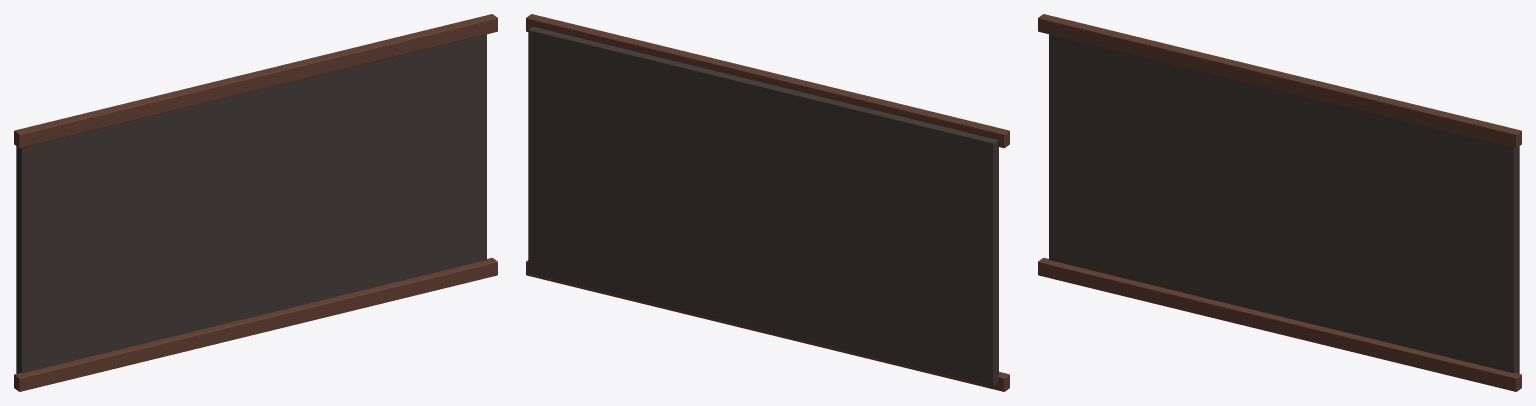
Rendered from board.fbx.
The picture shows the model from 3 angles, left to right: view 1: azimuth 30°, elevation 25°; view 2: azimuth 150°, elevation 25°; view 3: azimuth 330°, elevation 25°; orthographic projection.
Parts seen in each view (by area): view 1: board; view 2: board; view 3: board.
Boxes of the visible parts, x1,y1,x2,y2 form: board: [14, 14, 497, 391]; board: [526, 14, 1009, 391]; board: [1038, 14, 1521, 391].
Size of the model in its own units: 823 by 423 by 29.75.
